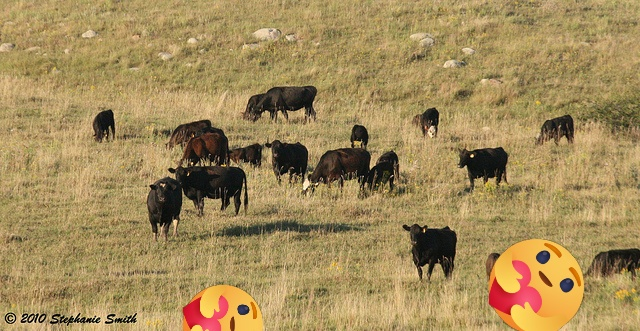care: (489, 239, 584, 331), (183, 285, 263, 331)
